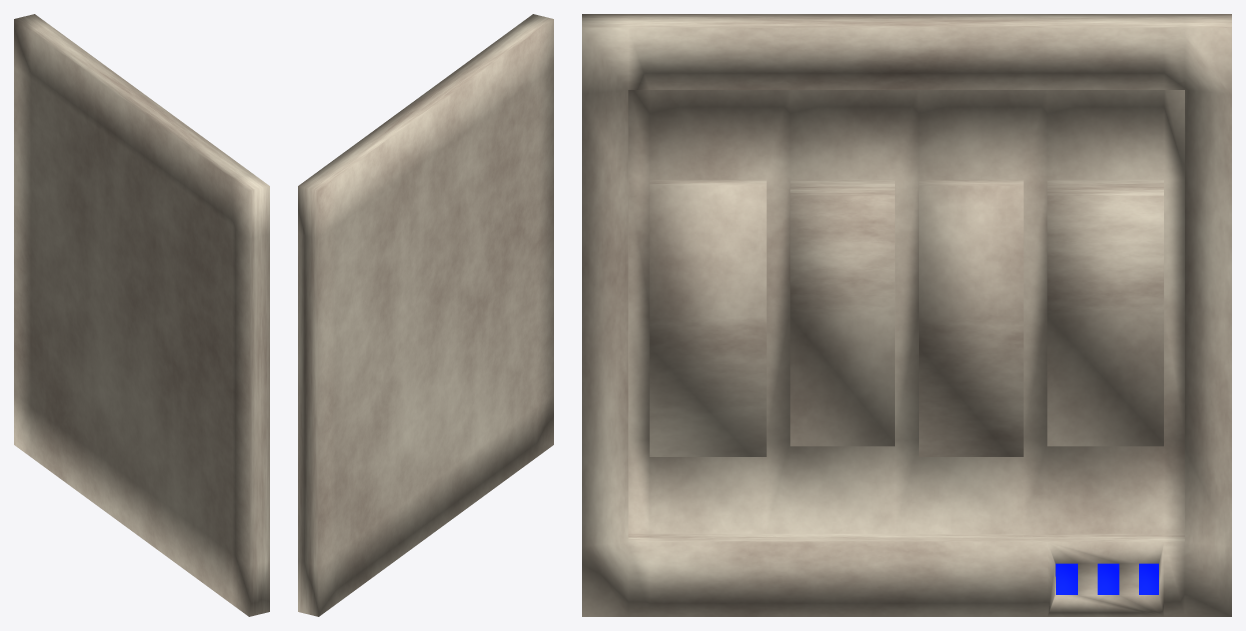
Rendered from kona board.fbx.
3 renders of one model, left to right at view 1: azimuth 30°, elevation 25°; view 2: azimuth 150°, elevation 25°; view 3: azimuth 270°, elevation 25°, orthographic. The views are drawn at different scales.
Visible parts, largest first — view 1: Plane.001; view 2: Plane.001; view 3: Plane.001.
Part boxes in pixels (left/top/right/bottom): Plane.001: left=14, top=14, right=269, bottom=616; Plane.001: left=298, top=14, right=553, bottom=616; Plane.001: left=582, top=14, right=1231, bottom=616.
Size of the model in its own units: 7.36 by 112 by 112.
2 materials, 1 textured.
